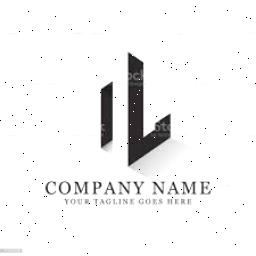l: (67, 46, 125, 170)
